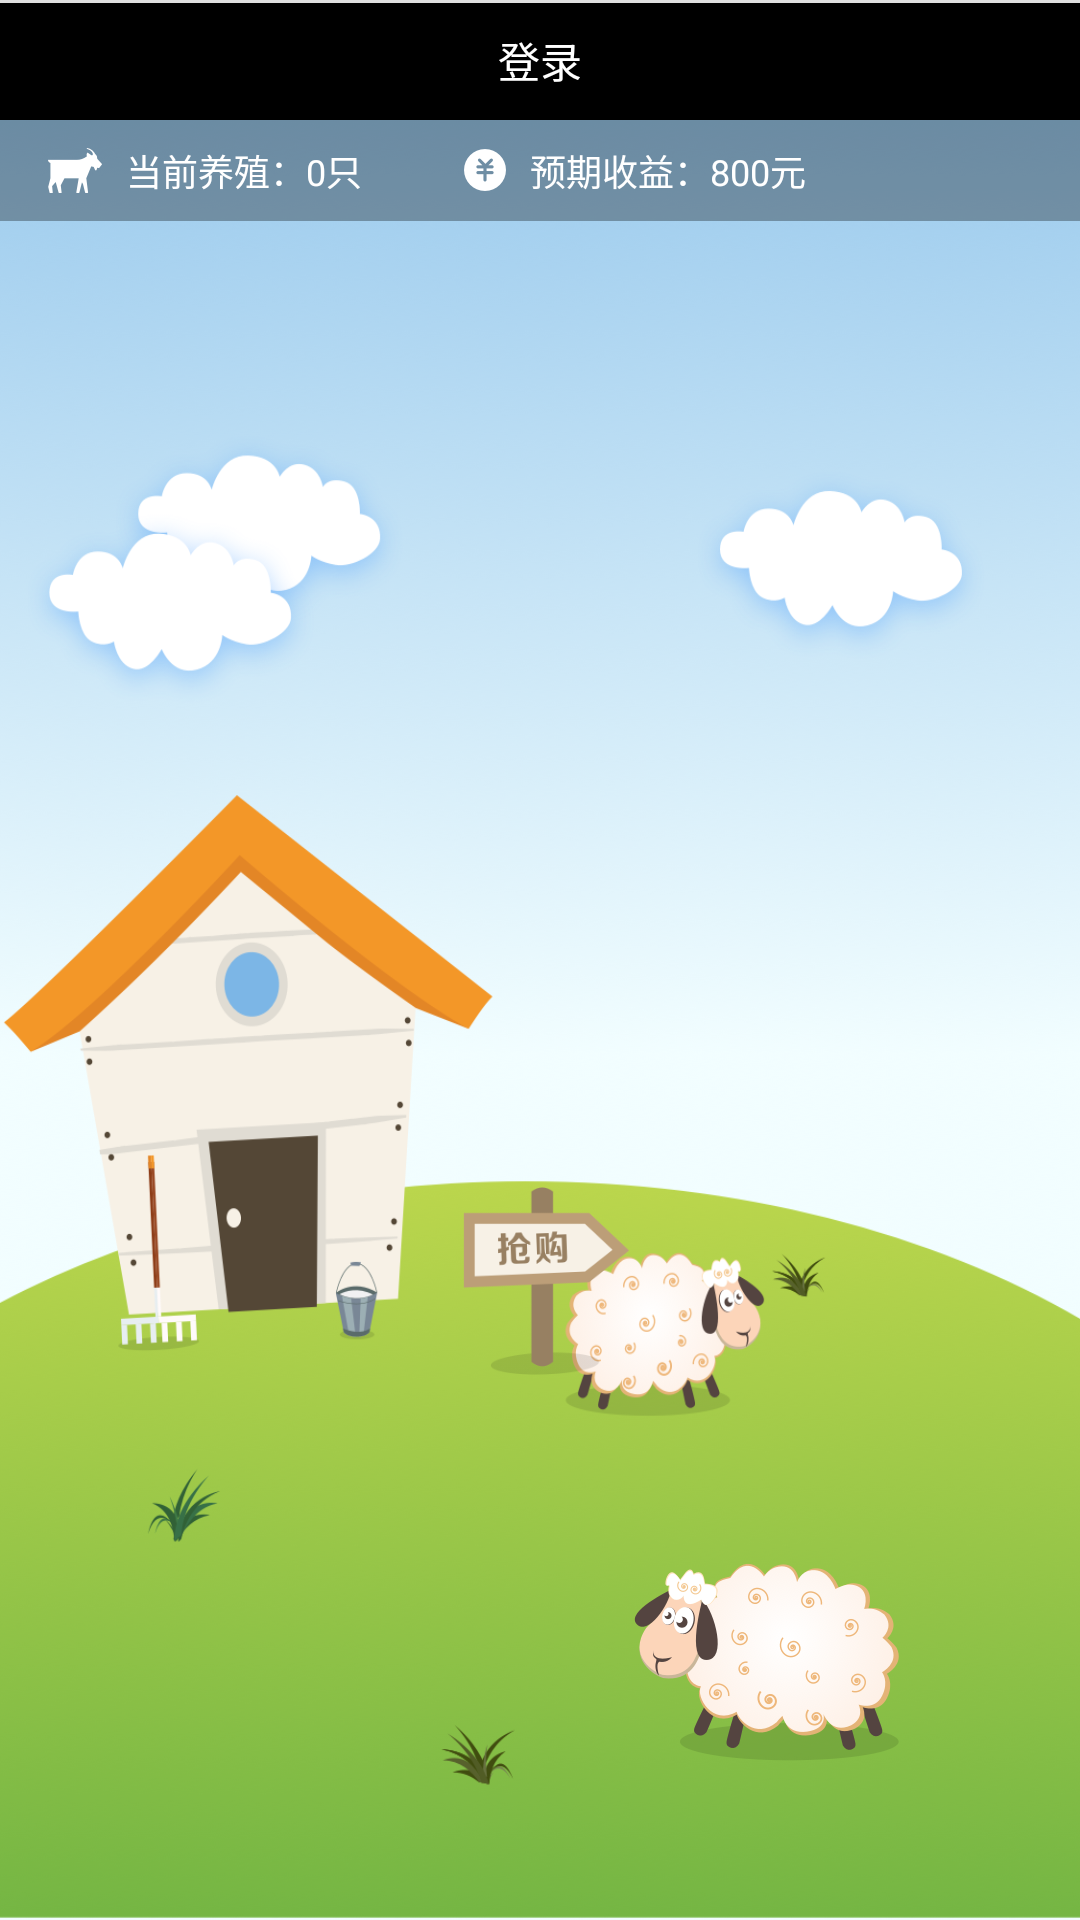

Screen size 1080*1920. Icon name, then its center in pixels as (x,y):
sheepimg: (767,1656)
